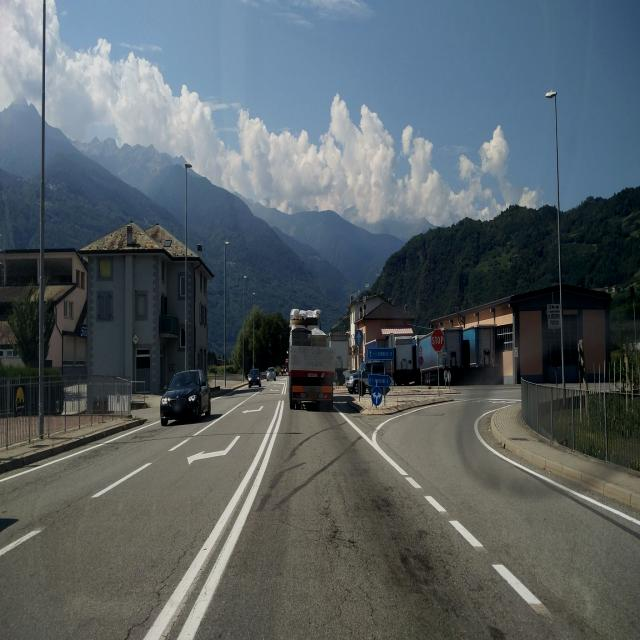car: (160, 368, 212, 426), (421, 365, 451, 386), (248, 367, 262, 389), (344, 371, 358, 391), (266, 366, 277, 381)
